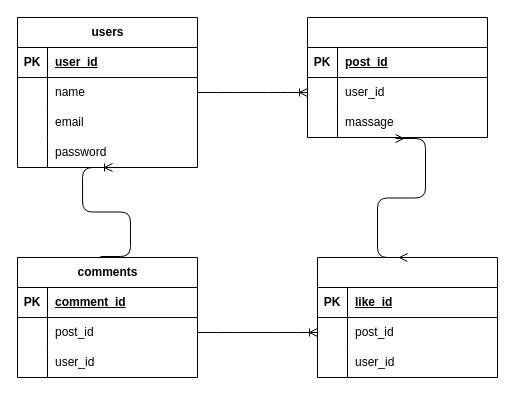
Image size: 515x395. Some labels were removed from this diagram. Here are the shapes that lost their labels. From the top down, the box of each, then its label:
(306, 16, 488, 138): posts
(316, 256, 498, 378): likes
